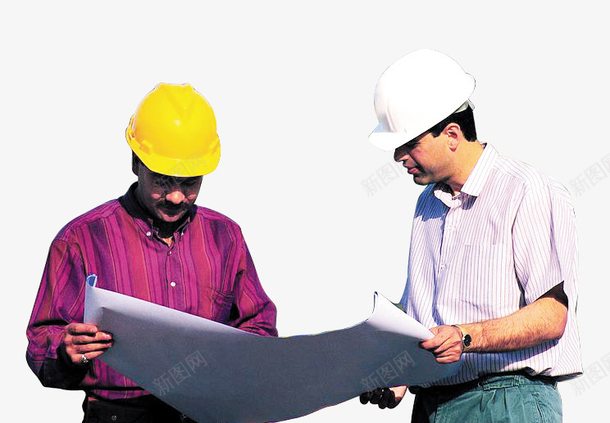safetyhat: (309, 34, 577, 416), (5, 73, 283, 392)
